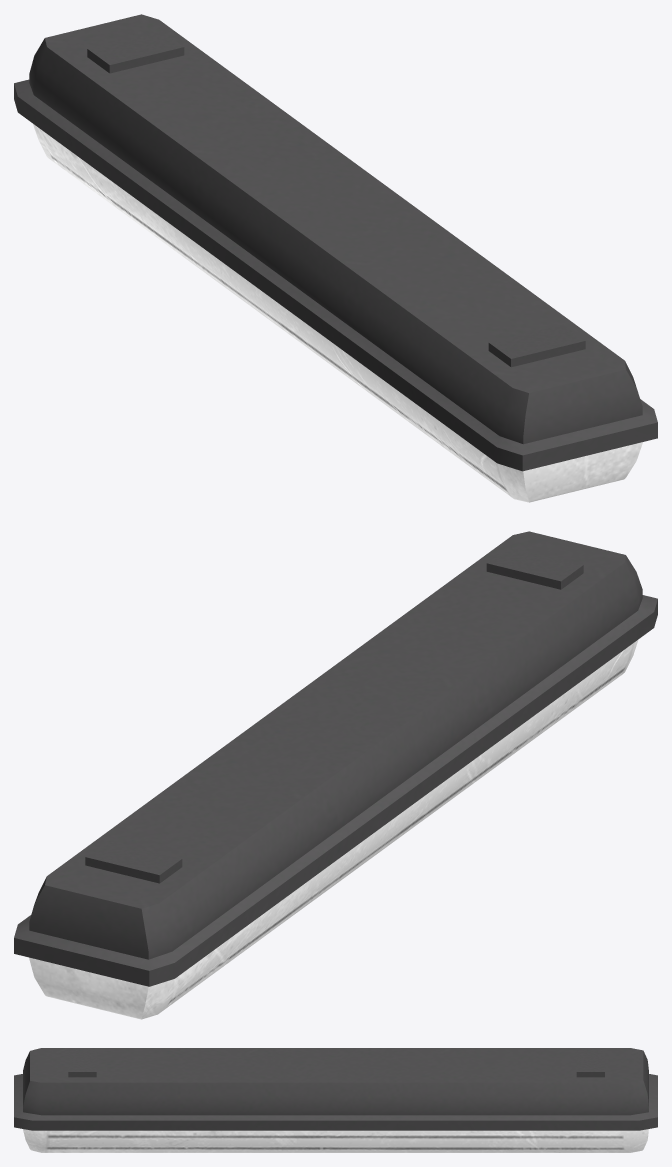
The model's file is Lamp_Combined.fbx.
3 renders of one model, top to bottom at view 1: azimuth 30°, elevation 25°; view 2: azimuth 150°, elevation 25°; view 3: azimuth 270°, elevation 25°, orthographic. The views are drawn at different scales.
Parts seen in each view (by area): view 1: Lamp_Combined; view 2: Lamp_Combined; view 3: Lamp_Combined.
Boxes of the visible parts, x1=… form: Lamp_Combined: x1=14, y1=14, x2=657, y2=502; Lamp_Combined: x1=14, y1=531, x2=657, y2=1019; Lamp_Combined: x1=14, y1=1048, x2=657, y2=1152.
Size of the model in its own units: 25.69 by 18.77 by 144.
Materials: 4 (2 with a texture image).
